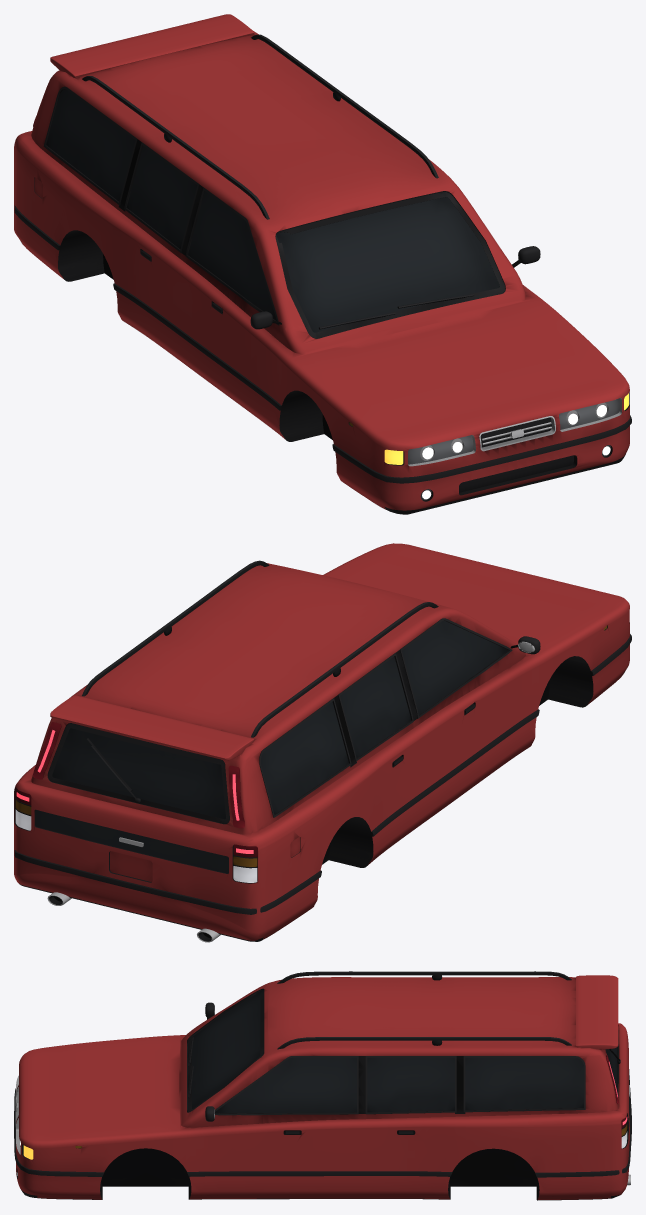
The model's file is sleeper.m.glb.
The picture shows the model from 3 angles, top to bottom: view 1: azimuth 30°, elevation 25°; view 2: azimuth 150°, elevation 25°; view 3: azimuth 270°, elevation 25°; orthographic projection. The views are drawn at different scales.
Parts seen in each view (by area): view 1: paint_lodm, window_lodm, trim_lodm, grille_lodm, chrome_lodm, head_lodm; view 2: paint_lodm, window_lodm, trim_lodm, glass_lodm, tail_lodm, reverse_lodm, chrome_lodm; view 3: paint_lodm, window_lodm, trim_lodm, chrome_lodm.
Part boxes in pixels (x1=…): paint_lodm: x1=14, y1=14, x2=629, y2=510; window_lodm: x1=46, y1=89, x2=505, y2=338; trim_lodm: x1=14, y1=34, x2=631, y2=514; grille_lodm: x1=459, y1=417, x2=573, y2=492; chrome_lodm: x1=408, y1=255, x2=621, y2=466; head_lodm: x1=408, y1=398, x2=619, y2=500; paint_lodm: x1=14, y1=543, x2=629, y2=940; window_lodm: x1=52, y1=620, x2=508, y2=819; trim_lodm: x1=14, y1=560, x2=631, y2=941; glass_lodm: x1=35, y1=810, x2=228, y2=873; tail_lodm: x1=15, y1=722, x2=257, y2=880; reverse_lodm: x1=15, y1=809, x2=257, y2=882; chrome_lodm: x1=47, y1=641, x2=534, y2=942; paint_lodm: x1=16, y1=975, x2=629, y2=1199; window_lodm: x1=192, y1=989, x2=617, y2=1113; trim_lodm: x1=14, y1=971, x2=631, y2=1200; chrome_lodm: x1=15, y1=1006, x2=630, y2=1185.
Size of what is drawn, in the model's own units: 2.04 by 1.29 by 4.79.
